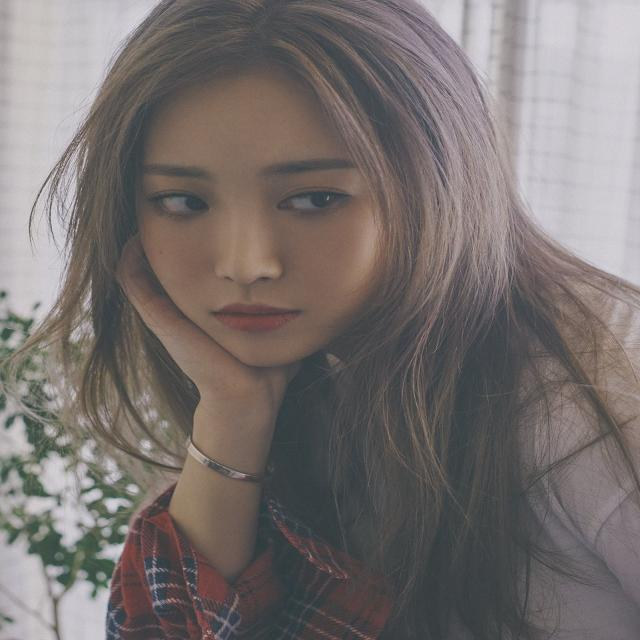mobile_phonerotation: (3, 0, 637, 638)
